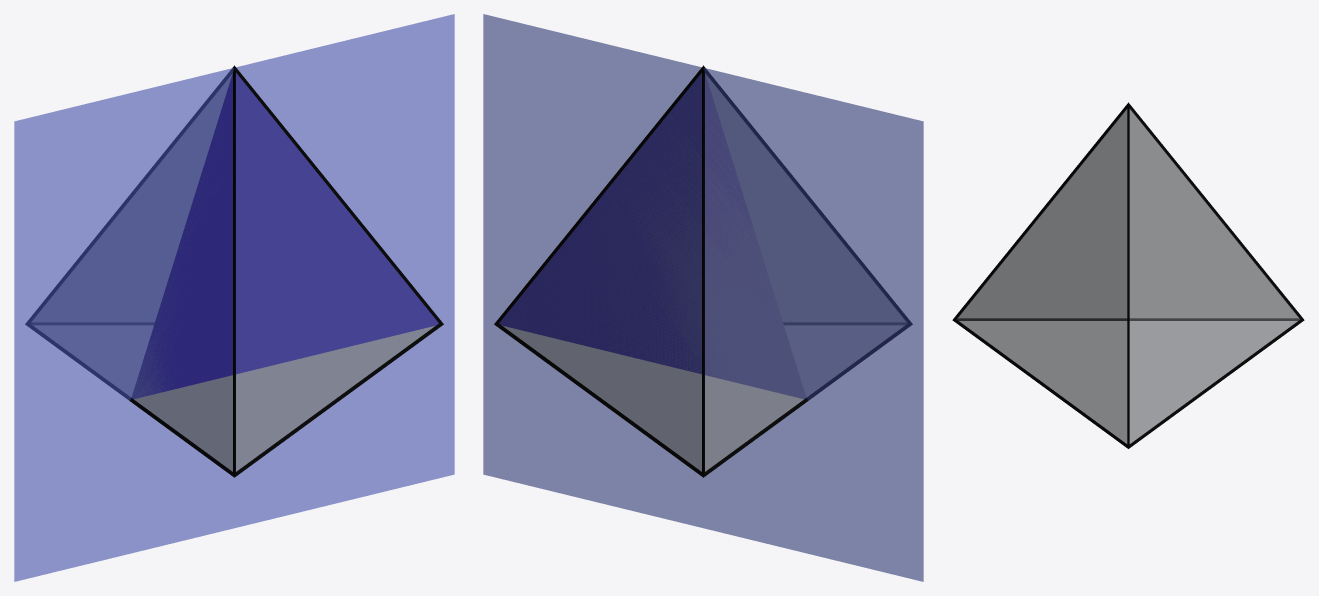
File: Plano_int_tetra.glb
3 renders of one model, left to right at view 1: azimuth 30°, elevation 25°; view 2: azimuth 150°, elevation 25°; view 3: azimuth 270°, elevation 25°, orthographic. The views are drawn at different scales.
Parts seen in each view (by area): view 1: Plane, Principal, Solid.005, wire; view 2: Plane, Principal, Solid.005, wire; view 3: Principal, wire.
Part boxes in pixels (bbox=[...]): Plane: bbox=[14, 14, 454, 581]; Principal: bbox=[30, 73, 438, 471]; Solid.005: bbox=[132, 73, 438, 398]; wire: bbox=[25, 65, 443, 477]; Plane: bbox=[483, 14, 923, 581]; Principal: bbox=[499, 73, 907, 471]; Solid.005: bbox=[499, 73, 805, 398]; wire: bbox=[494, 65, 912, 477]; Principal: bbox=[957, 109, 1299, 443]; wire: bbox=[952, 102, 1304, 448].
Bounding box in the file's own units: 2 × 2.01 × 1.65.
